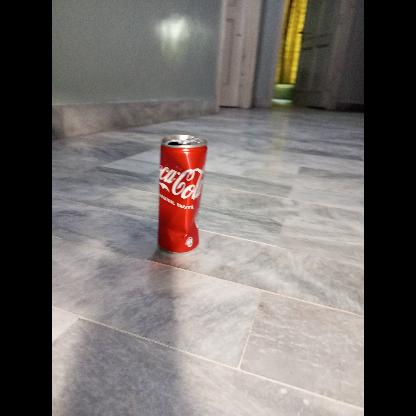Dent_Can: (159, 156, 208, 187), (164, 201, 198, 242)
Lid_Open: (166, 126, 200, 150)
Tin_Can: (152, 122, 210, 254)
